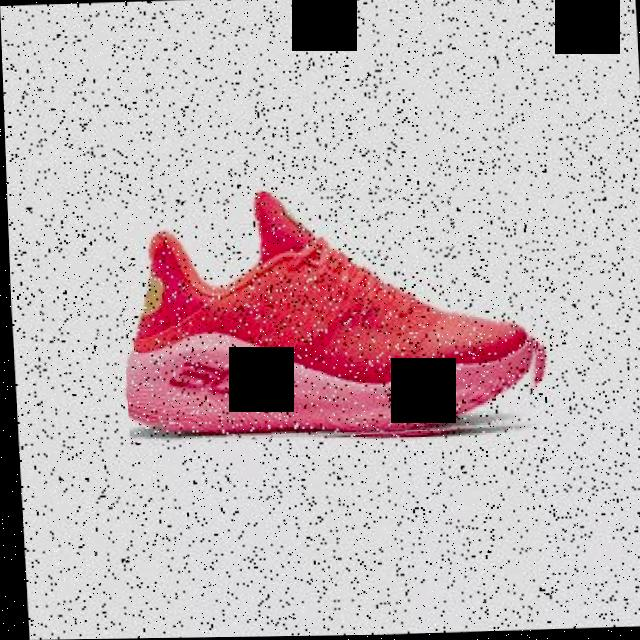shoe: (115, 185, 548, 447)
